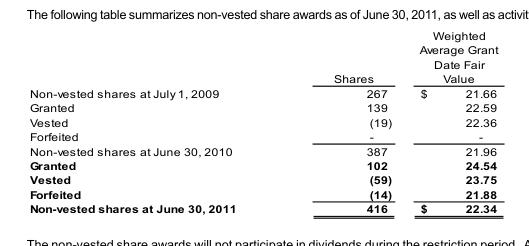table: (28, 29, 497, 214)
table column: (28, 29, 284, 214), (284, 29, 404, 214), (404, 29, 497, 214)
table column header: (28, 29, 497, 85)
table row: (28, 29, 497, 85), (28, 85, 497, 100), (28, 114, 497, 129), (28, 143, 497, 158), (28, 186, 497, 201), (28, 100, 497, 114), (28, 129, 497, 143), (28, 158, 497, 172), (28, 172, 497, 186), (28, 201, 497, 214)
